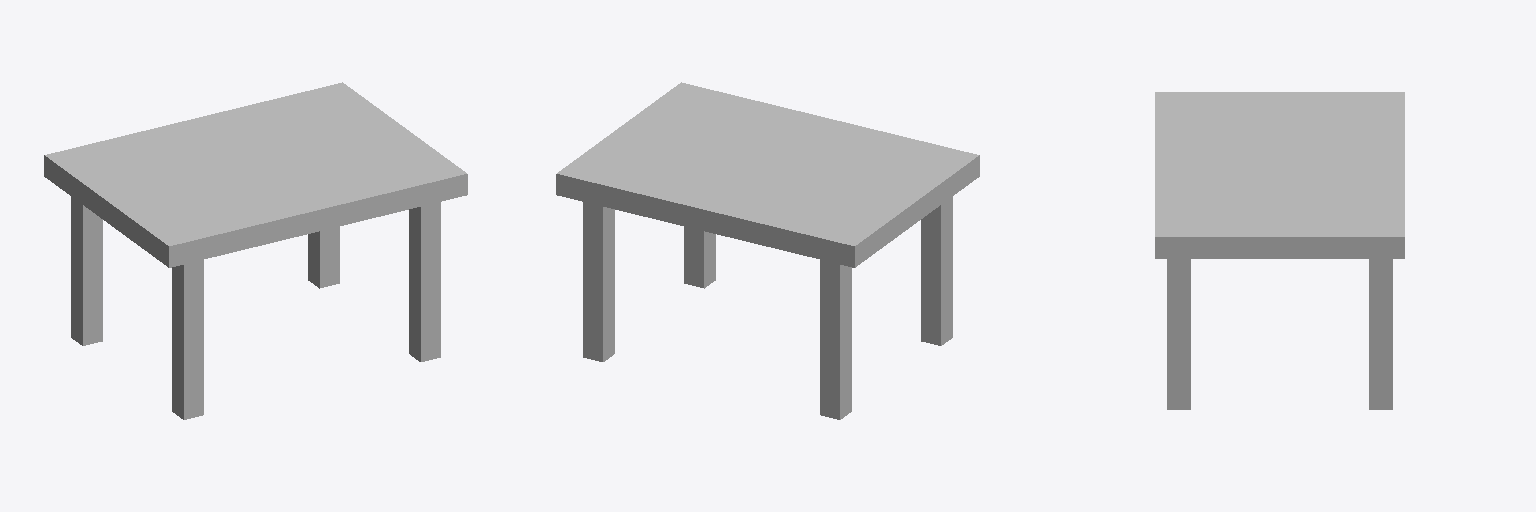
Rendered from table.obj.
The picture shows the model from 3 angles: view 1: azimuth 30°, elevation 25°; view 2: azimuth 150°, elevation 25°; view 3: azimuth 270°, elevation 25°; orthographic projection.
Parts seen in each view (by area): view 1: object 1; view 2: object 1; view 3: object 1.
Boxes of the visible parts, x1=… form: object 1: x1=44, y1=82, x2=467, y2=419; object 1: x1=556, y1=82, x2=979, y2=419; object 1: x1=1155, y1=92, x2=1404, y2=409.
Size of the model in its own units: 2.9 by 1.7 by 2.1.